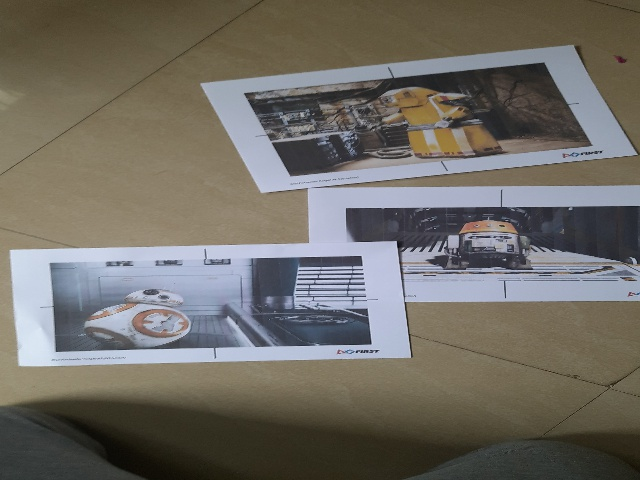bpt1: (25, 253, 390, 361)
rept2: (343, 194, 640, 292)
rpt2: (207, 38, 617, 170)
